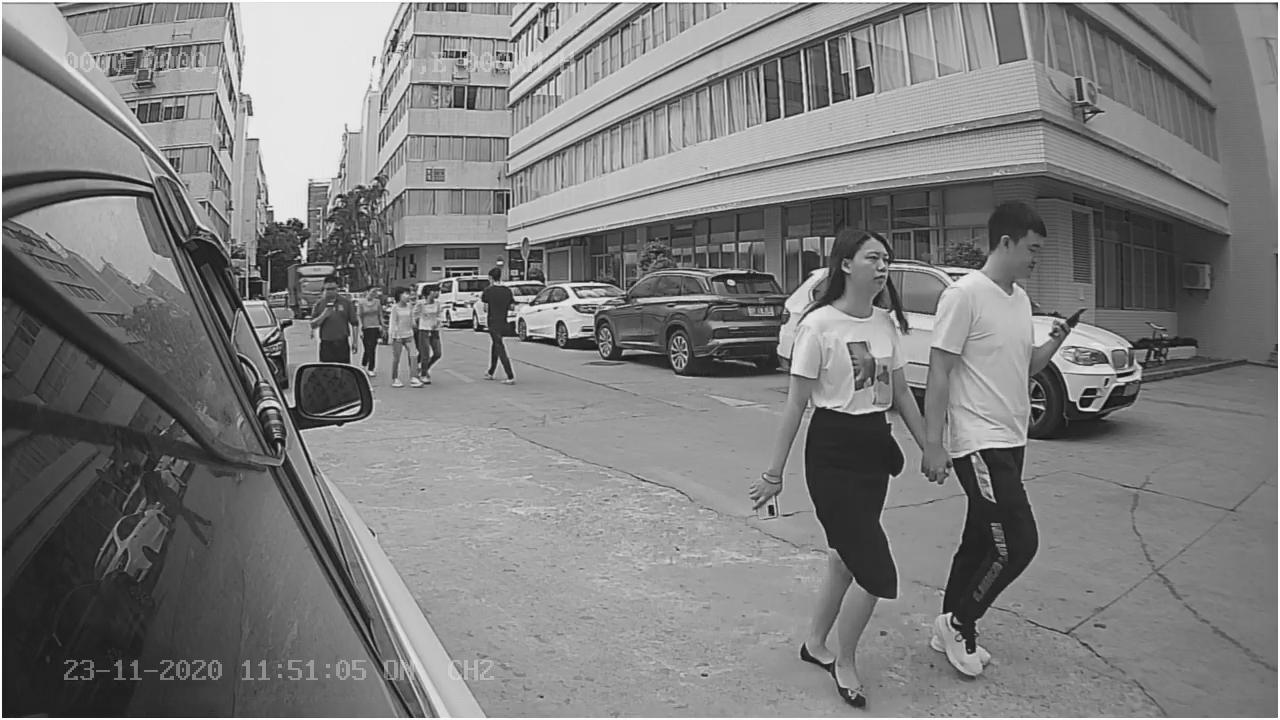person: (744, 221, 951, 701)
